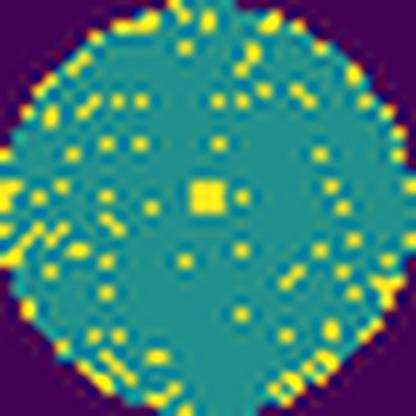Center: (182, 176, 239, 218)
